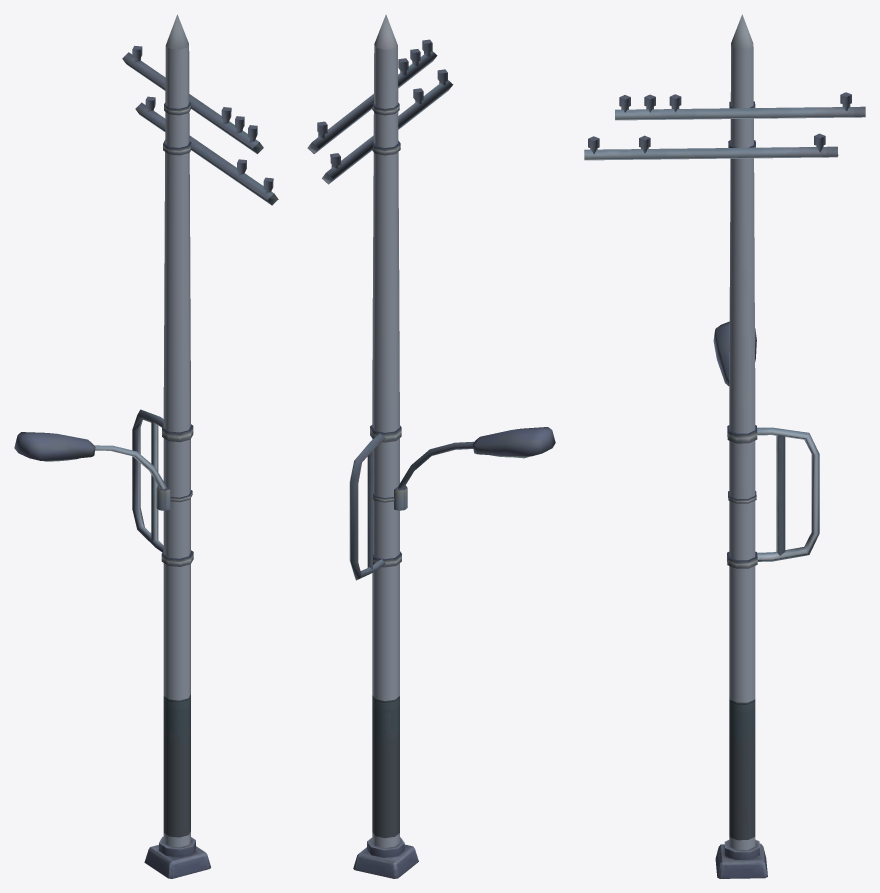
The model's file is 6484_ZC01_M_M_ludeng04.fbx.
3 views of the same model, side by side, from view 1: azimuth 30°, elevation 25°; view 2: azimuth 150°, elevation 25°; view 3: azimuth 270°, elevation 25° (orthographic).
Visible parts, largest first — view 1: 6484_ZC01_M_M_ludeng04; view 2: 6484_ZC01_M_M_ludeng04; view 3: 6484_ZC01_M_M_ludeng04.
Boxes of the visible parts, x1=… form: 6484_ZC01_M_M_ludeng04: x1=14, y1=14, x2=278, y2=878; 6484_ZC01_M_M_ludeng04: x1=307, y1=14, x2=555, y2=878; 6484_ZC01_M_M_ludeng04: x1=584, y1=14, x2=865, y2=878.
Bounding box in the file's own units: 1.41 × 6.15 × 1.84.
